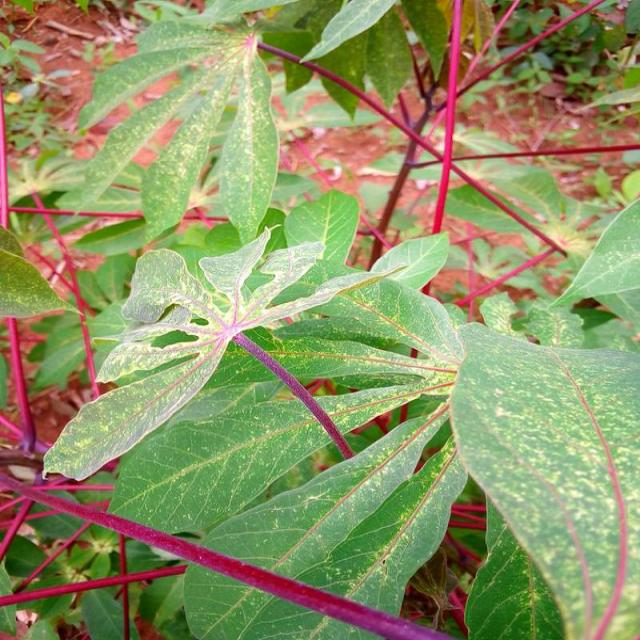cassava leaf: (182, 404, 469, 638), (449, 319, 640, 638)
